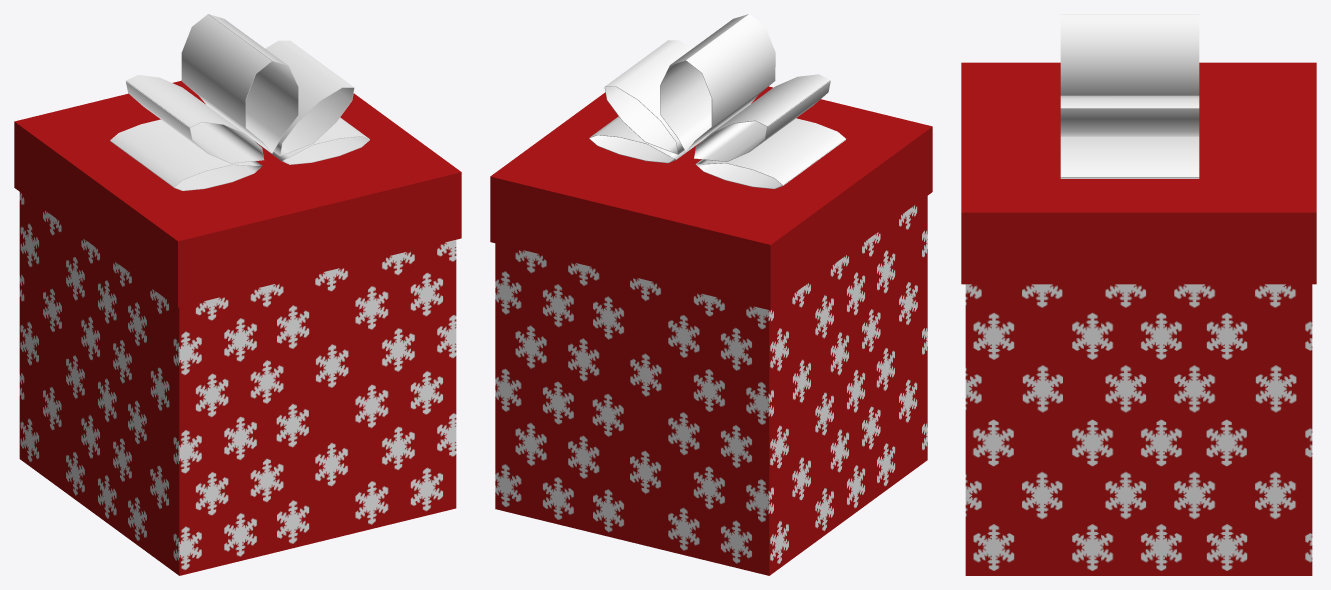
File: present_snowflake_ver1.fbx
3 renders of one model, left to right at view 1: azimuth 30°, elevation 25°; view 2: azimuth 150°, elevation 25°; view 3: azimuth 270°, elevation 25°, orthographic. The views are drawn at different scales.
Visible parts, largest first — view 1: Box, Top; view 2: Box, Top; view 3: Box, Top.
Boxes of the visible parts, left/top/right/bottom form: Box: left=19, top=192, right=456, bottom=575; Top: left=14, top=14, right=461, bottom=307; Box: left=495, top=196, right=927, bottom=575; Top: left=490, top=14, right=932, bottom=310; Box: left=965, top=284, right=1312, bottom=575; Top: left=961, top=14, right=1316, bottom=284.
Bounding box in the file's own units: 10.24 × 15.52 × 10.24.
